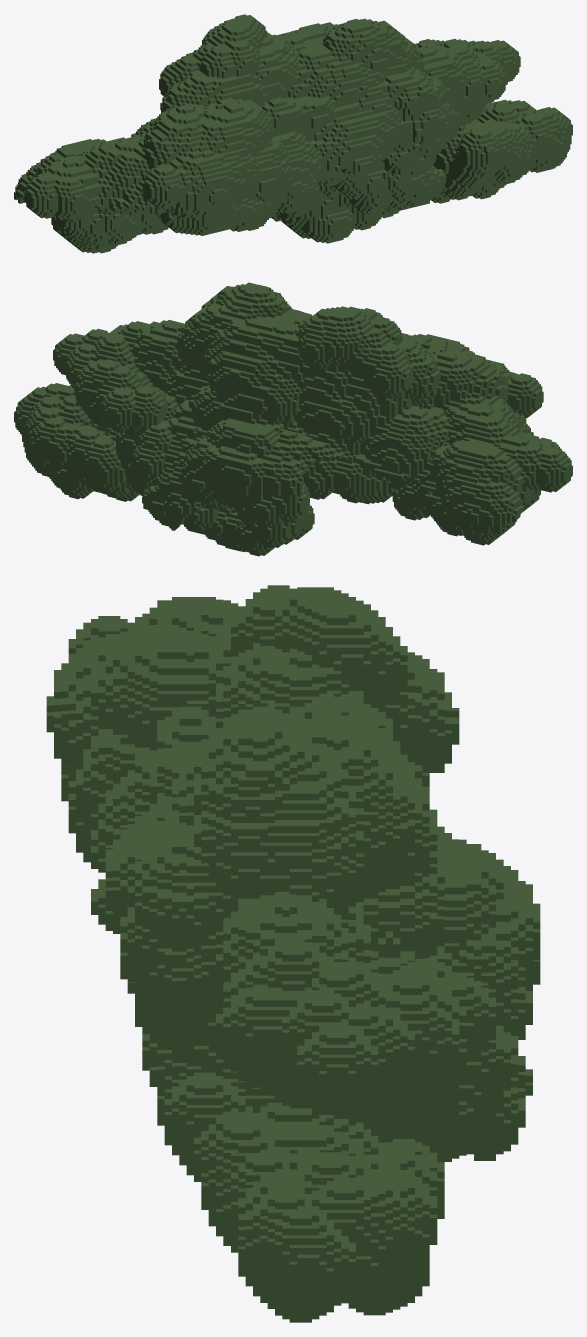
The model's file is forest1.1-83.obj.
3 renders of one model, top to bottom at view 1: azimuth 30°, elevation 25°; view 2: azimuth 150°, elevation 25°; view 3: azimuth 270°, elevation 25°, orthographic. The views are drawn at different scales.
Size of the model in its own units: 17 by 7.1 by 6.7.
1 material, 1 textured.
